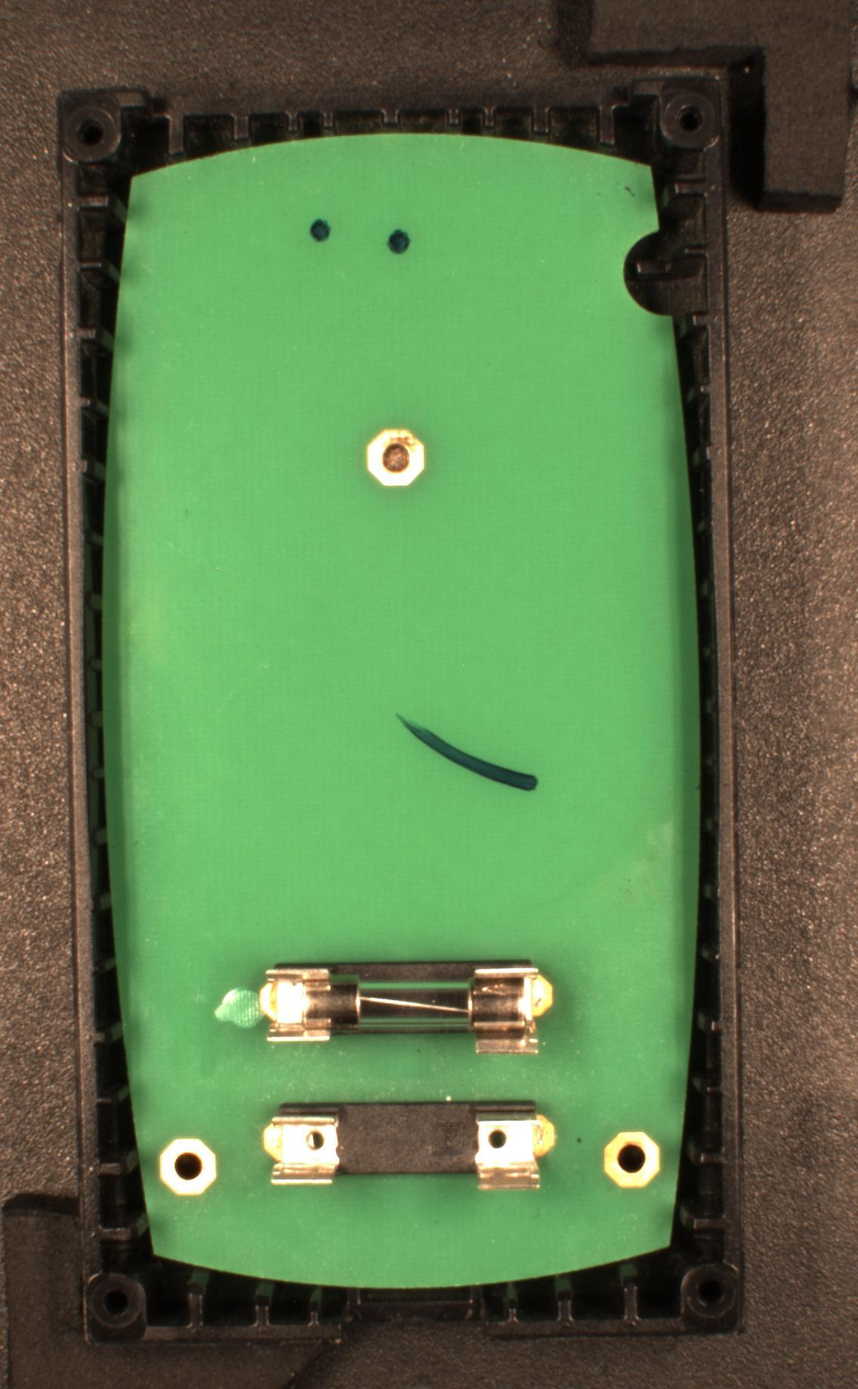Linijsko Ostecene: (393, 709, 541, 793)
Nepostojanje osiguraca: (260, 1100, 560, 1192)
Tockasto Ostecenje: (384, 227, 414, 255), (308, 217, 333, 245)
